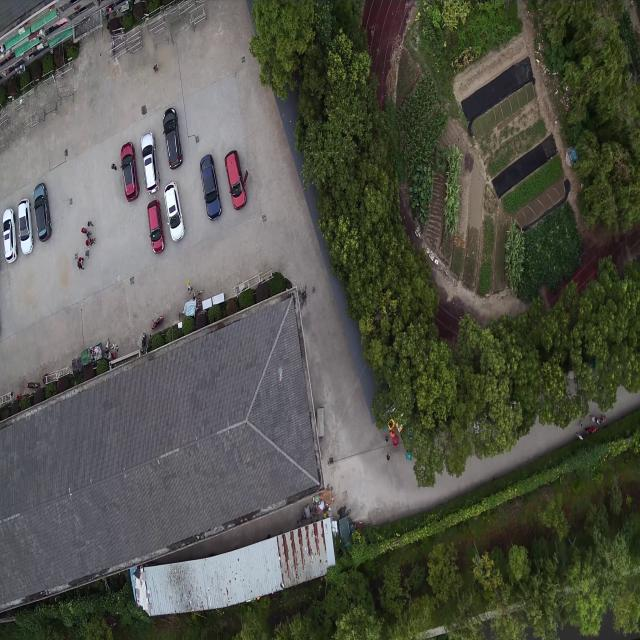UAV: (272, 364, 288, 386)
